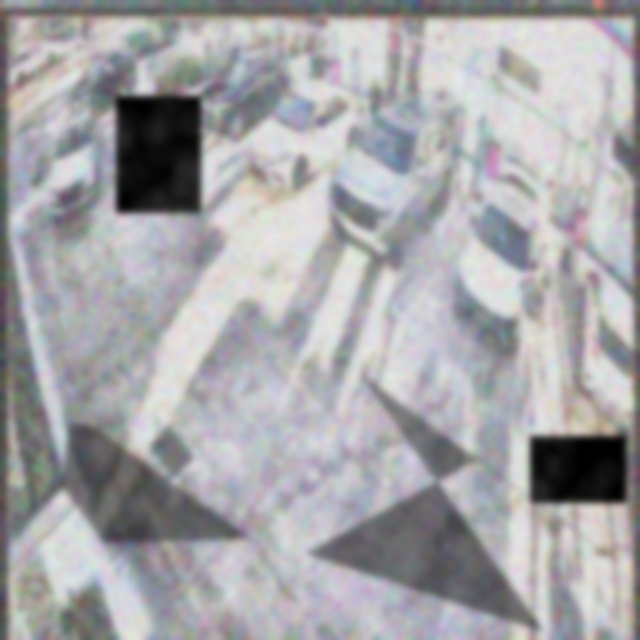Car: (330, 90, 456, 266), (456, 157, 548, 350), (248, 79, 365, 188)
